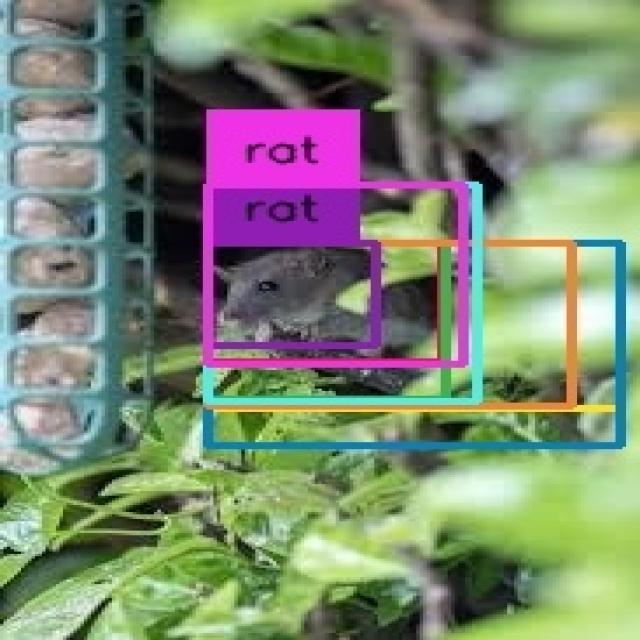rat: (208, 243, 621, 446), (208, 242, 621, 410), (210, 243, 573, 406), (206, 186, 476, 400), (208, 186, 463, 363), (206, 243, 448, 399), (210, 243, 444, 362), (208, 244, 376, 347)
